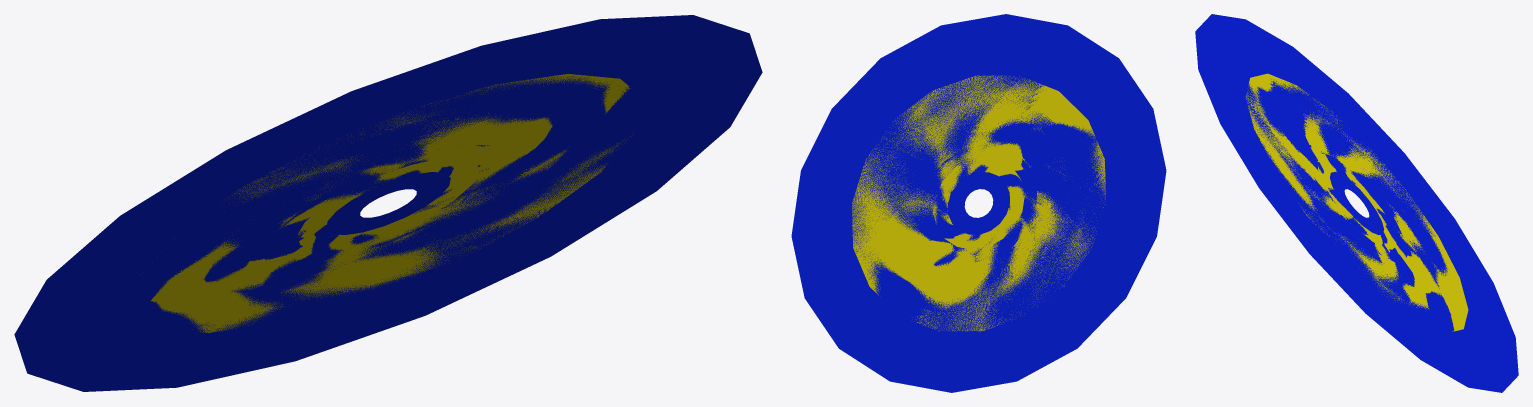
The model's file is pref_fx_evolution_self_lv3.fbx.
3 renders of one model, left to right at view 1: azimuth 30°, elevation 25°; view 2: azimuth 150°, elevation 25°; view 3: azimuth 270°, elevation 25°, orthographic. The views are drawn at different scales.
Parts seen in each view (by area): view 1: sm_noise; view 2: sm_noise; view 3: sm_noise.
Part boxes in pixels (box(x1,y1,x2,y2)): sm_noise: box(14, 15, 762, 391); sm_noise: box(791, 14, 1166, 392); sm_noise: box(1195, 14, 1518, 392).
Size of the model in its own units: 9.98 by 7.3 by 6.71.
